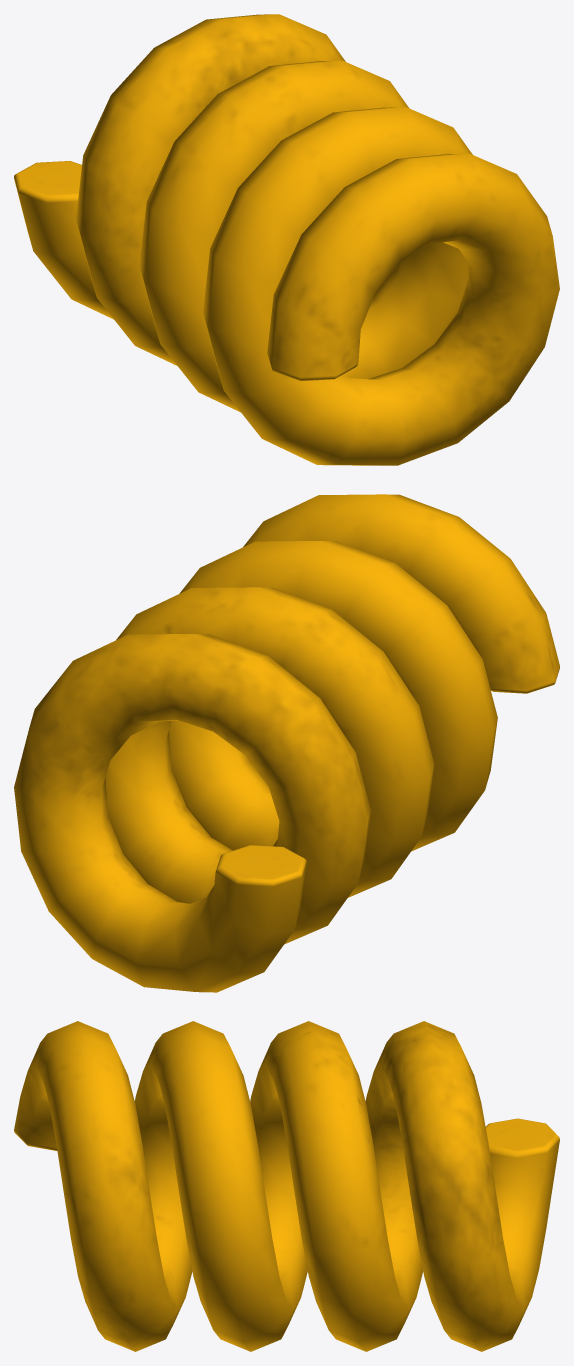
The model's file is muelle.fbx.
3 renders of one model, top to bottom at view 1: azimuth 30°, elevation 25°; view 2: azimuth 150°, elevation 25°; view 3: azimuth 270°, elevation 25°, orthographic. The views are drawn at different scales.
Visible parts, largest first — view 1: muelle; view 2: muelle; view 3: muelle.
Part boxes in pixels (x1,y1,x2,y2): muelle: (14, 14, 559, 465); muelle: (14, 494, 559, 992); muelle: (14, 1021, 559, 1351).
Bounding box in the file's own units: 48.84 × 48.84 × 80.49.
